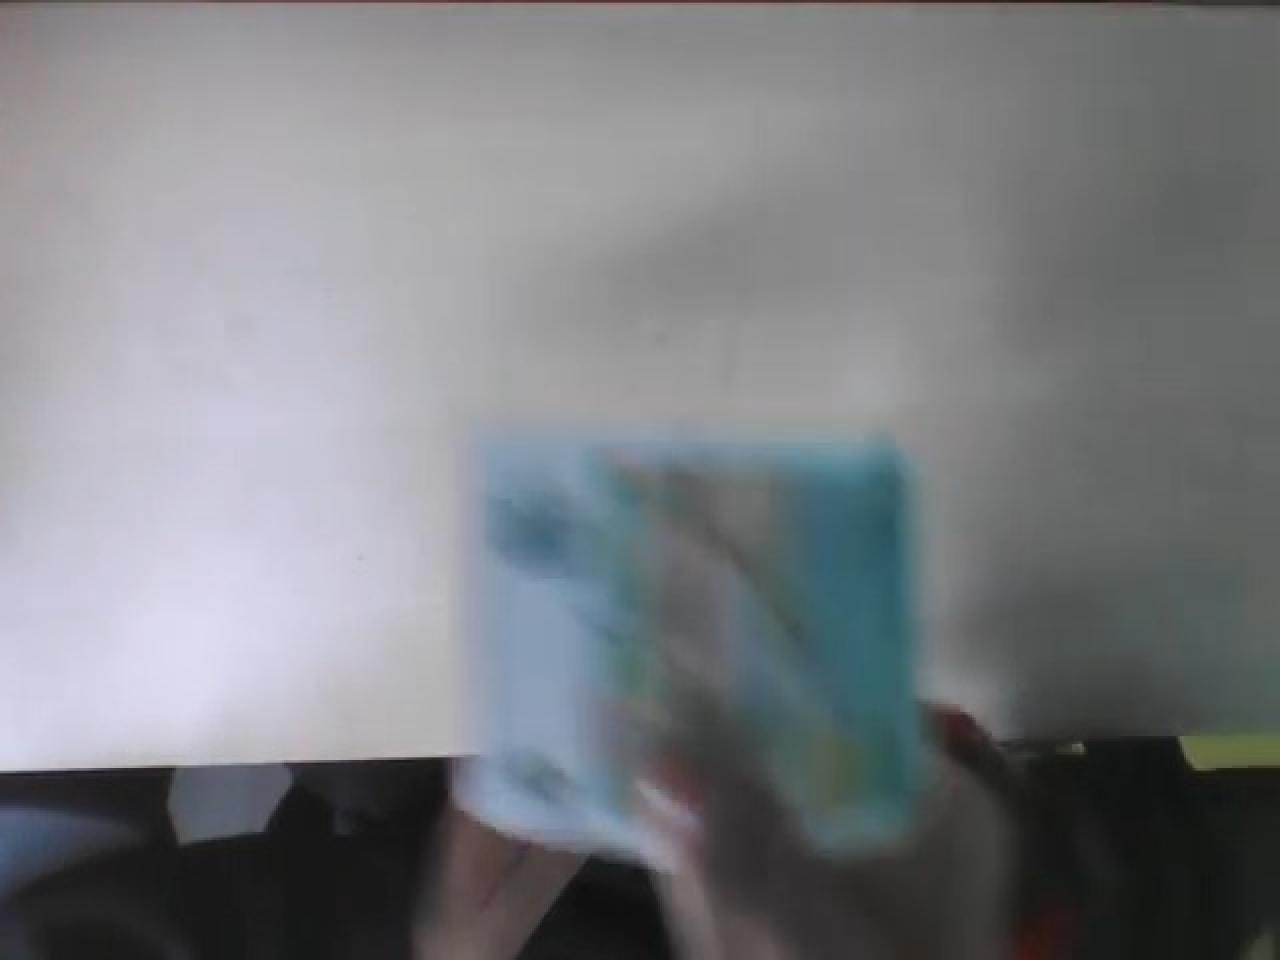100leva: (472, 430, 936, 869)
